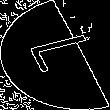L_E: (13, 32, 97, 78)
